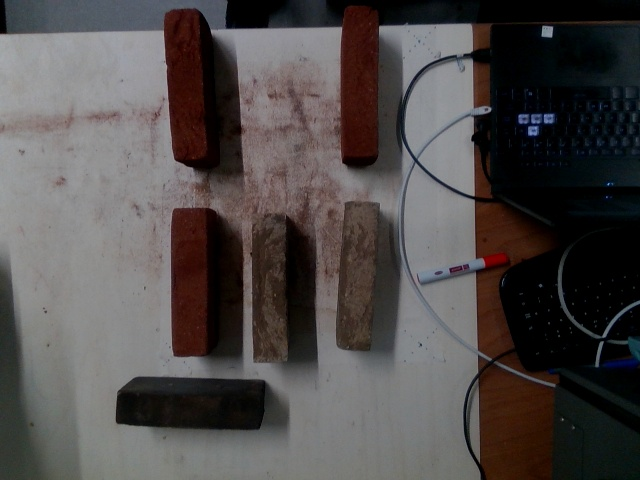brick-side: (339, 201, 381, 352), (163, 11, 204, 161), (343, 7, 376, 156), (252, 216, 285, 365), (171, 209, 204, 357), (117, 394, 257, 428)
